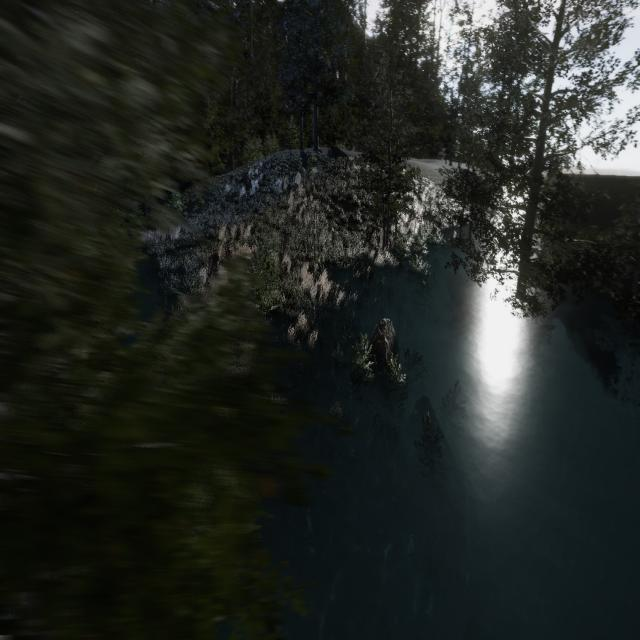Human: (304, 296, 318, 336)
